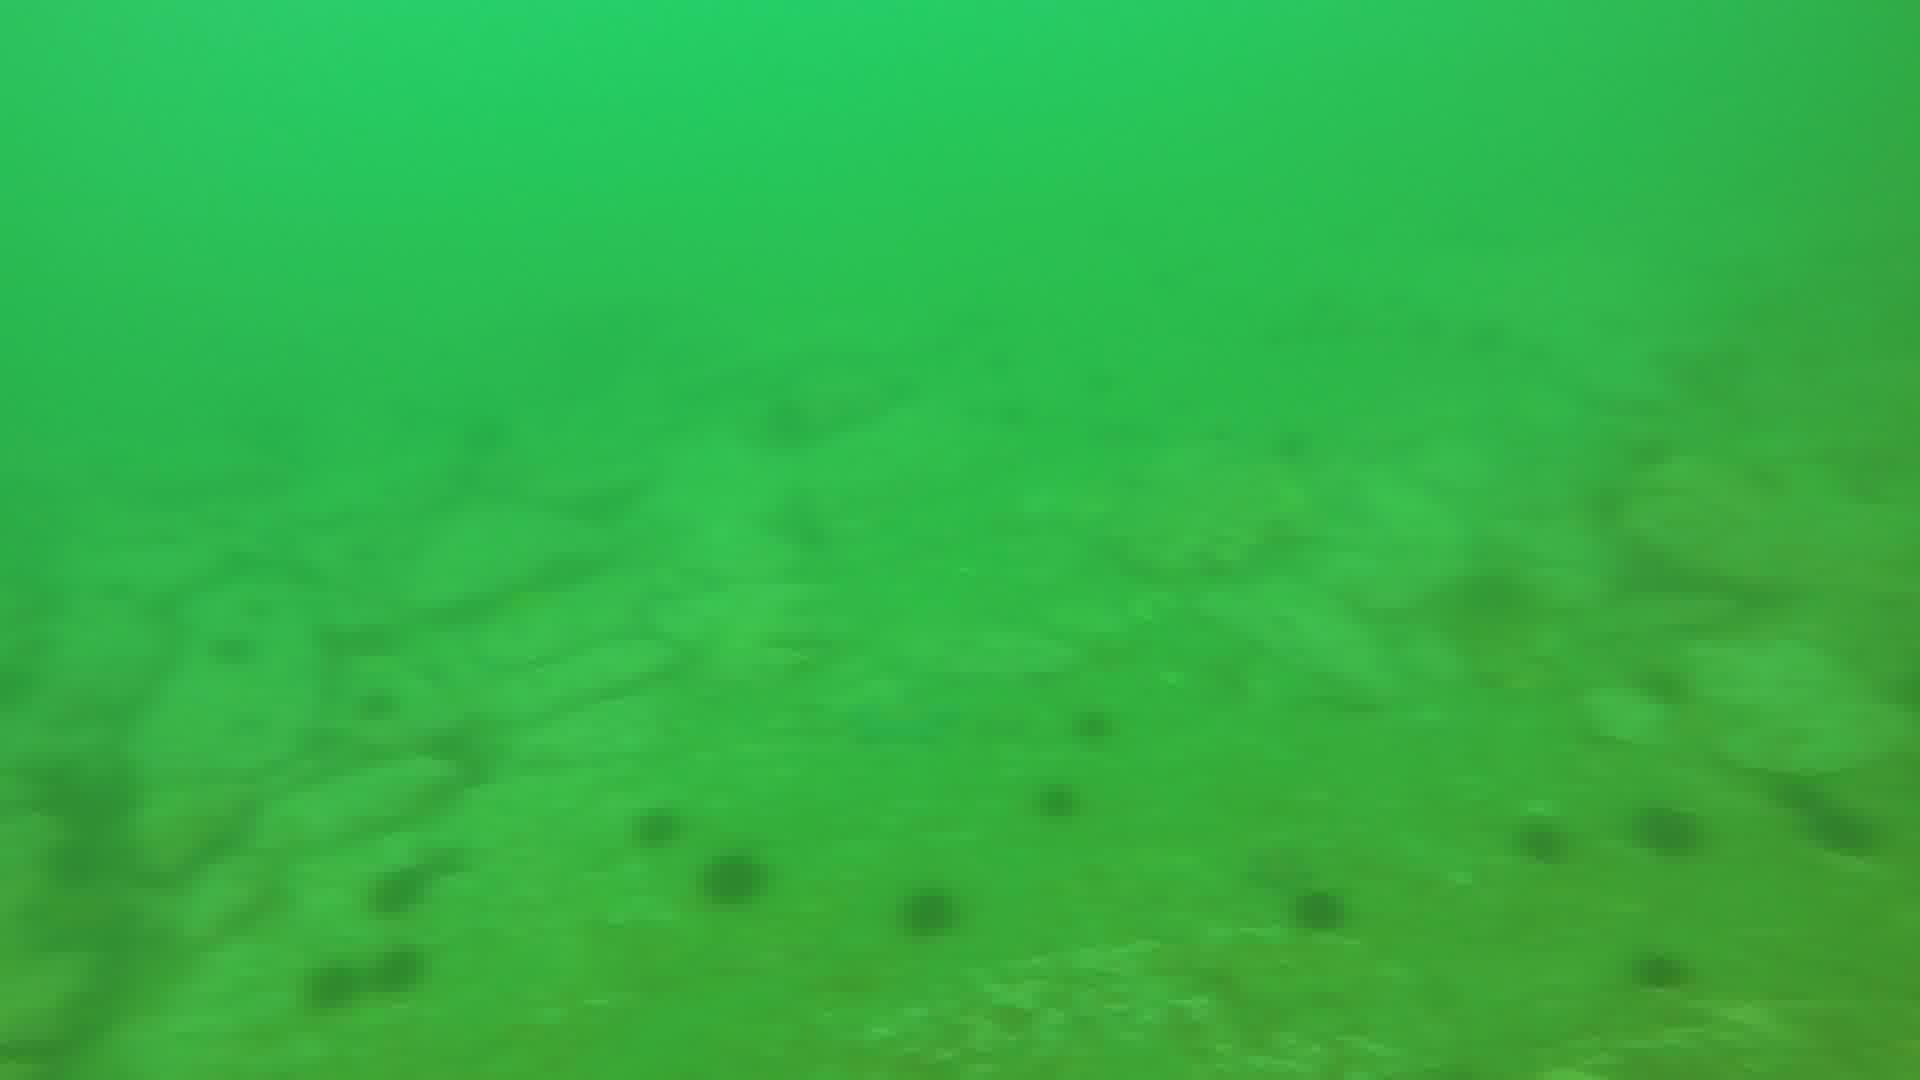echinus: (1629, 802, 1705, 862), (698, 847, 767, 909), (299, 959, 369, 1015), (367, 858, 431, 916), (1808, 808, 1882, 858), (360, 945, 433, 996), (895, 891, 973, 936), (1515, 816, 1576, 862), (349, 684, 422, 723), (1774, 781, 1836, 823), (1294, 895, 1354, 935), (1631, 956, 1688, 996), (1034, 782, 1087, 818), (634, 811, 684, 847), (1076, 709, 1118, 746)
starfish: (1242, 837, 1319, 894)
